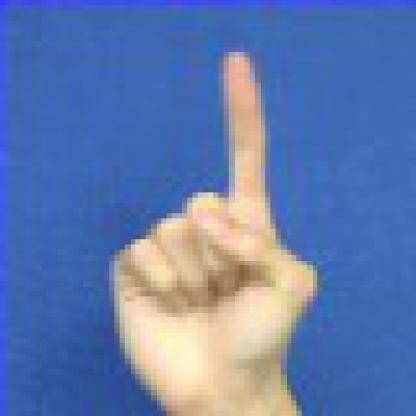one: (105, 46, 322, 413)
